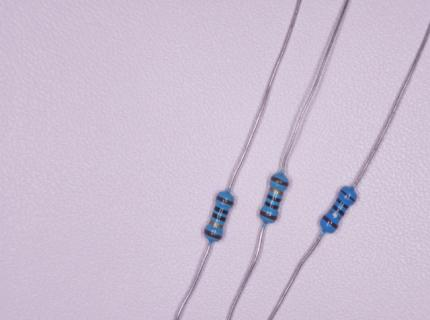Black band: (331, 204, 345, 217), (213, 205, 229, 216), (211, 212, 227, 223), (264, 200, 280, 210), (336, 198, 349, 210), (266, 194, 282, 203)
Brown band: (322, 215, 339, 230), (204, 228, 223, 240), (259, 209, 278, 221), (270, 175, 289, 187), (340, 189, 356, 203), (215, 195, 234, 206)
Gold band: (328, 210, 342, 221), (269, 187, 284, 196), (209, 221, 224, 229)
